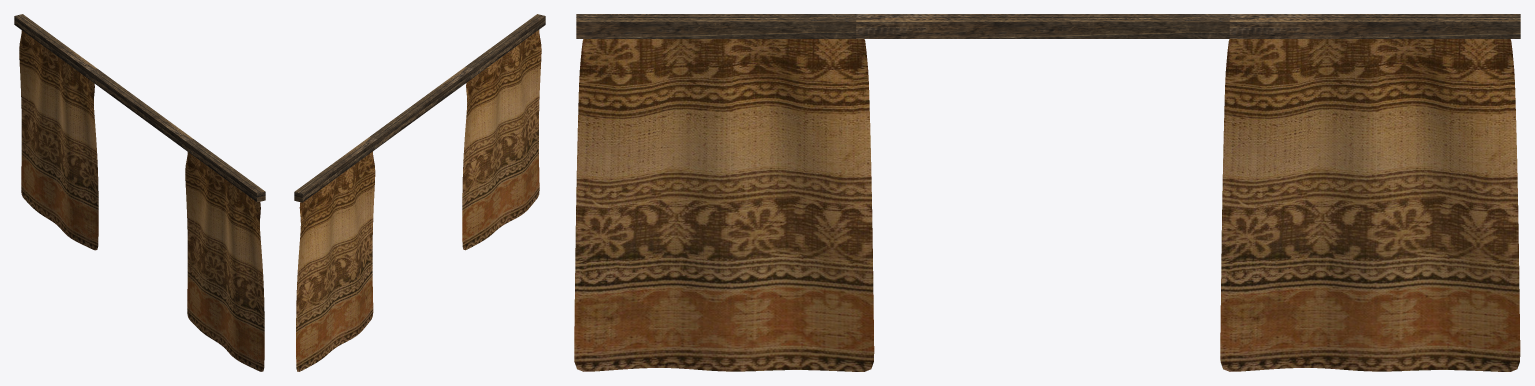
Rendered from curtain.fbx.
3 renders of one model, left to right at view 1: azimuth 30°, elevation 25°; view 2: azimuth 150°, elevation 25°; view 3: azimuth 270°, elevation 25°, orthographic. The views are drawn at different scales.
Visible parts, largest first — view 1: Fabric1, fabric2, woodPlank; view 2: Fabric1, fabric2, woodPlank; view 3: fabric2, Fabric1, woodPlank.
Part boxes in pixels (x1,y1,x2,y2): Fabric1: (185, 152, 264, 371); fabric2: (19, 30, 98, 250); woodPlank: (14, 14, 265, 202); Fabric1: (462, 30, 541, 250); fabric2: (296, 151, 375, 371); woodPlank: (294, 14, 545, 202); fabric2: (1220, 39, 1520, 371); Fabric1: (574, 39, 874, 371); woodPlank: (576, 14, 1520, 38).
Size of the model in its own units: 10 by 207 by 501.
2 materials, 2 textured.
